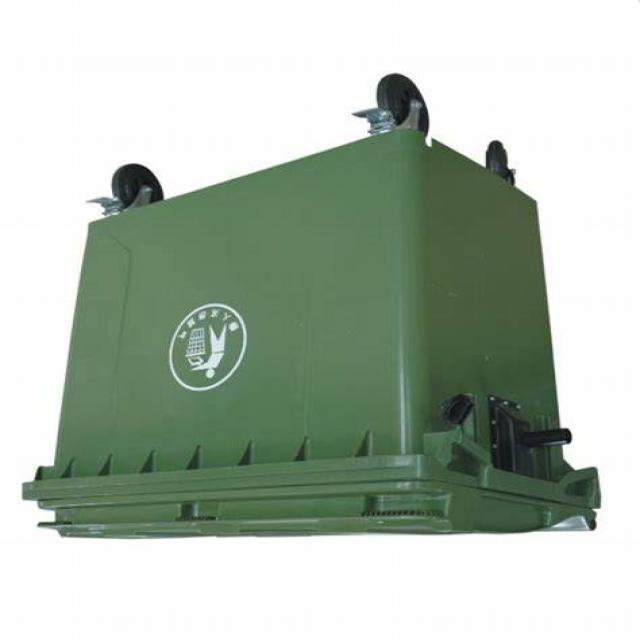garbage container: (1, 62, 635, 588)
